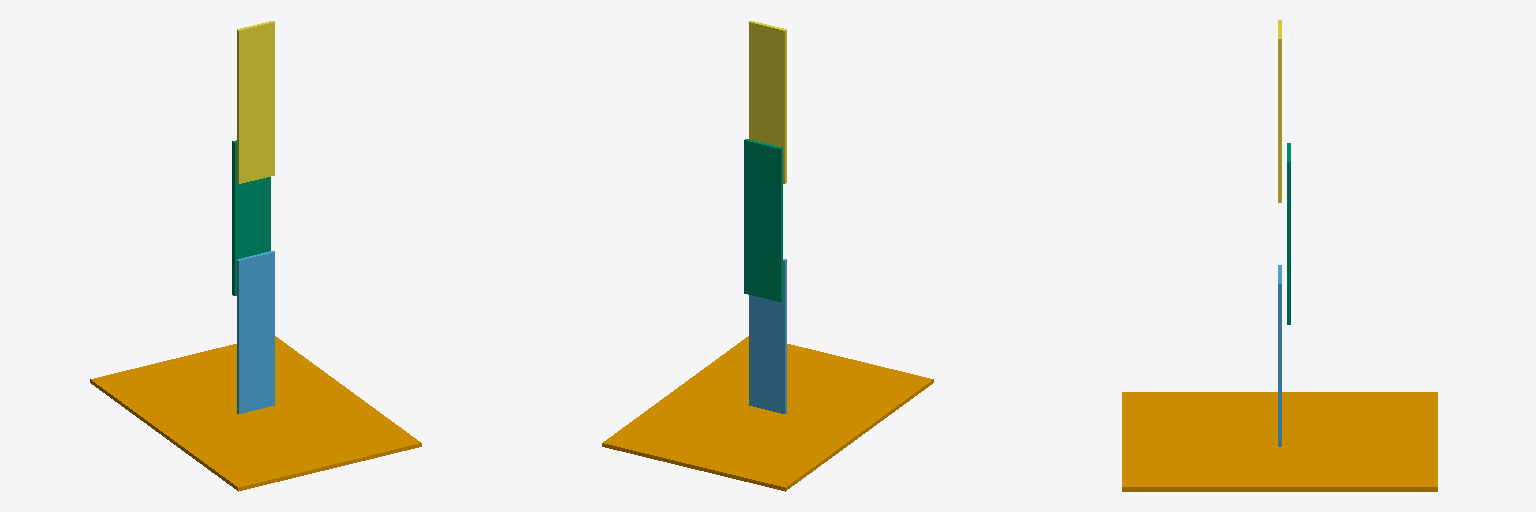
robot.urdf — arm:
<?xml version="1.0"?>
<robot name="arm">

 <!-- ros_control plugin -->
  <gazebo>
    <plugin name="gazebo_ros_control" filename="libgazebo_ros_control.so">
      <robotNamespace>/asemo_arm</robotNamespace>
      <robotSimType>gazebo_ros_control/DefaultRobotHWSim</robotSimType>
	
	<legacyModeNS>true</legacyModeNS>
    </plugin>
  </gazebo>

<!--bASE lINK/-->
<link name='BASE_link'>

	<visual> 

		<orgin xyz="0 0 0" rpy="0 0 0" />

		<geometry>
		
		<box size="0.05 0.07 0.001"/>

		</geometry>



	</visual>



</link>
<!--shoulder joint/-->
	<joint type="revolute" name="shoulder">
<origin xyz="0 0 0.001" rpy="0 0 0"/>
<limit velocity="1" effort="100" upper="1.57" lower="-1.57"/>
<child link="shoulder_arm"/>
    <parent link="BASE_link"/>
    <axis xyz="0 0 1" rpy="0 0 0"/>


	</joint>

<!-- shoulder_arm link /-->

<link name="shoulder_arm">
    
    
	<visual name="shoulder_arm_visual">
      <origin xyz="0 0 0.02" rpy="0 0 0"/>
      <geometry>
        <box size="0.01 0.001 0.04"/>
      </geometry>
    </visual>
    
  </link>


<!--elbow joint/-->
<joint type="revolute" name="elbow">


	<origin xyz="0 0.002 0.03" rpy="0 0 0"/>
	<limit velocity="1" effort="100" upper="1.57" lower="-1.57"/>
	<child link="elbow_arm"/>
    	<parent link="shoulder_arm"/>
    	<axis xyz="0 1 0" rpy="0 0 0"/>


</joint>


<!-- elbow_arm link /-->

<link name="elbow_arm">
    
    
	<visual name="elbow_arm_visual">
      <origin xyz="0 0 0.02" rpy="0 0 0"/>
      <geometry>
        <box size="0.01 0.001 0.04"/>
      </geometry>
    </visual>
    
  </link>




<!-- gripper joint/-->
<joint type="revolute" name="gripper">


	<origin xyz="0 -0.002 0.03" rpy="0 0 0"/>
	<limit velocity="1" effort="100" upper="1.57" lower="-1.57"/>
	<child link="gripper_arm"/>
    	<parent link="elbow_arm"/>
    	<axis xyz="0 1 0" rpy="0 0 0"/>


</joint>


<!-- gripper_arm link /-->

<link name="gripper_arm">
    
    
	<visual name="gripper_arm_visual">
      <origin xyz="0 0 0.02" rpy="0 0 0"/>
      <geometry>
        <box size="0.01 0.001 0.04"/>
      </geometry>
    </visual>
    
  </link>

<!--  the transmission for ROS control/-->



  <transmission name="shoulder_tran">
    <type>transmission_interface/SimpleTransmission</type>
    <joint name="shoulder">
      <hardwareInterface>hardware_interface/EffortJointInterface</hardwareInterface>
    </joint>
    <actuator name="shoulder_motor">
      <hardwareInterface>hardware_interface/EffortJointInterface</hardwareInterface>
      <mechanicalReduction>1</mechanicalReduction>
    </actuator>
  </transmission>


  <transmission name="elbow_tran">
    <type>transmission_interface/SimpleTransmission</type>
    <joint name="elbow">
      <hardwareInterface>hardware_interface/EffortJointInterface</hardwareInterface>
    </joint>
    <actuator name="elbow_motor">
      <hardwareInterface>hardware_interface/EffortJointInterface</hardwareInterface>
      <mechanicalReduction>1</mechanicalReduction>
    </actuator>
  </transmission>


  <transmission name="gripper_tran">
    <type>transmission_interface/SimpleTransmission</type>
    <joint name="gripper">
      <hardwareInterface>hardware_interface/EffortJointInterface</hardwareInterface>
    </joint>
    <actuator name="gripper_motor">
      <hardwareInterface>hardware_interface/EffortJointInterface</hardwareInterface>
      <mechanicalReduction>1</mechanicalReduction>
    </actuator>
  </transmission>








</robot>

--- What the picture shows (computed from the rendered views, not written in the file) ---
The picture shows the robot from 3 angles, left to right: view 1: azimuth 30°, elevation 25°; view 2: azimuth 150°, elevation 25°; view 3: azimuth 270°, elevation 25°; orthographic projection.
Model arm with 4 links and 3 joints (3 revolute), rooted at BASE_link, posed all joints at 0.
Visible links, largest first — view 1: BASE_link, shoulder_arm, gripper_arm, elbow_arm; view 2: BASE_link, elbow_arm, gripper_arm, shoulder_arm; view 3: BASE_link, gripper_arm, shoulder_arm, elbow_arm.
Link boxes in pixels (x1,y1,x2,y2): BASE_link: [90, 336, 421, 491]; shoulder_arm: [237, 251, 274, 413]; gripper_arm: [237, 21, 274, 183]; elbow_arm: [232, 140, 270, 295]; BASE_link: [602, 336, 933, 491]; elbow_arm: [744, 139, 782, 301]; gripper_arm: [749, 21, 786, 183]; shoulder_arm: [749, 259, 786, 413]; BASE_link: [1122, 392, 1437, 491]; gripper_arm: [1278, 20, 1281, 202]; shoulder_arm: [1278, 265, 1281, 446]; elbow_arm: [1287, 143, 1290, 324].
Size in the robot's own frame: 0.05 by 0.07 by 0.1015 metres.
Geometry: primitives only (box / cylinder / sphere), no mesh files.